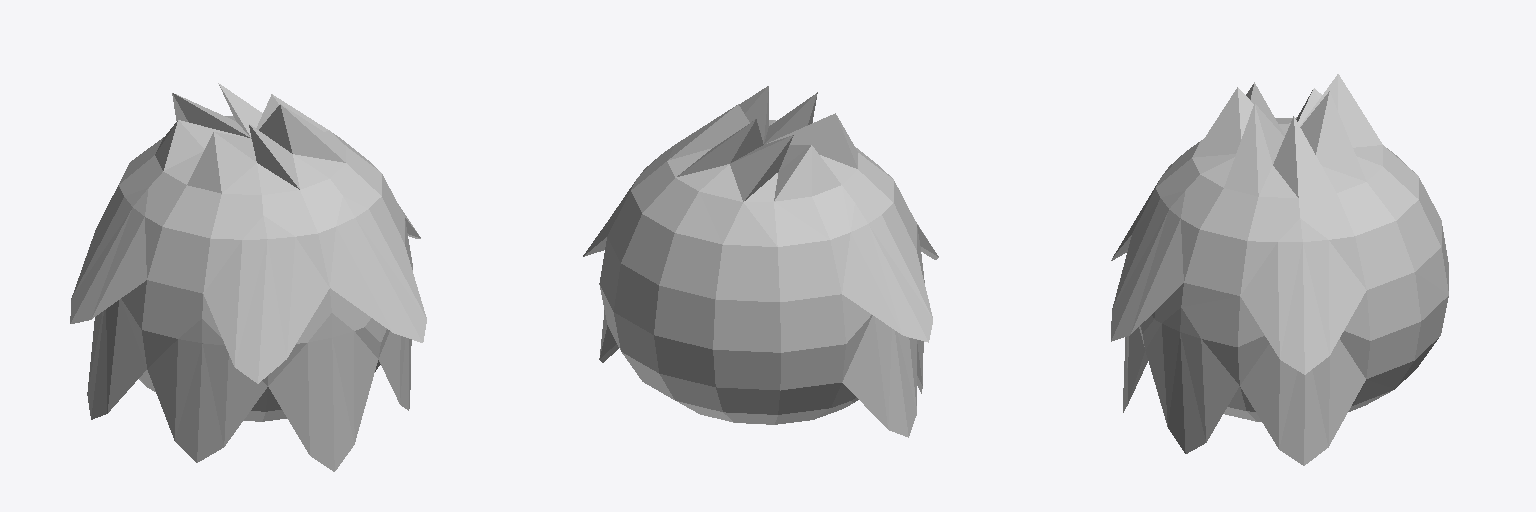
File: HEAD.obj
The picture shows the model from 3 angles: view 1: azimuth 30°, elevation 25°; view 2: azimuth 150°, elevation 25°; view 3: azimuth 270°, elevation 25°; orthographic projection.
Visible parts, largest first — view 1: Mesh_2793.rip_Mesh_2793.rip_mesh0000.001; view 2: Mesh_2793.rip_Mesh_2793.rip_mesh0000.001; view 3: Mesh_2793.rip_Mesh_2793.rip_mesh0000.001.
Part boxes in pixels (left/top/right/bottom): Mesh_2793.rip_Mesh_2793.rip_mesh0000.001: left=70, top=83, right=426, bottom=471; Mesh_2793.rip_Mesh_2793.rip_mesh0000.001: left=583, top=86, right=938, bottom=437; Mesh_2793.rip_Mesh_2793.rip_mesh0000.001: left=1111, top=74, right=1448, bottom=465.
Bounding box in the file's own units: 0.0244 × 0.0213 × 0.0206.